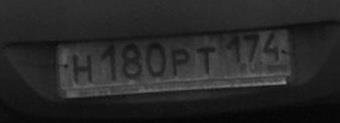license-plateSW: (54, 27, 291, 91)
